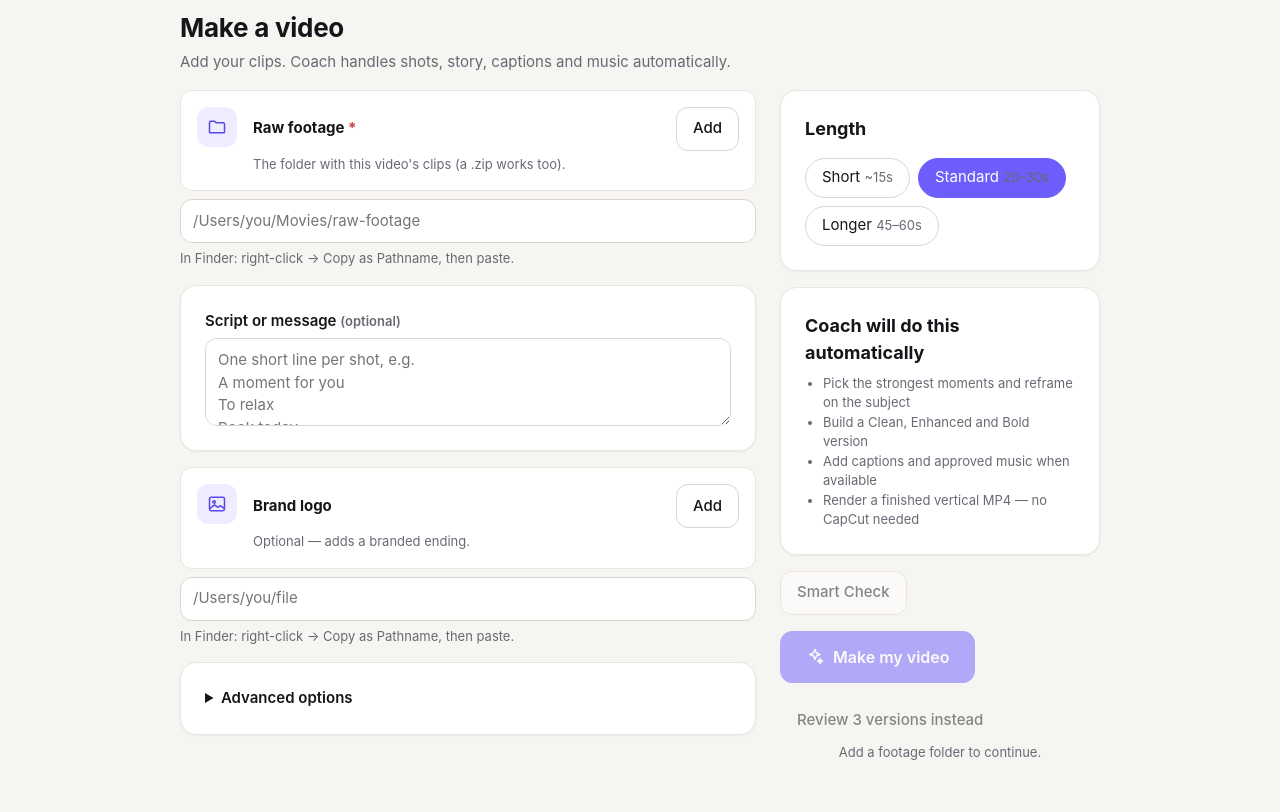
Test case: CreateFlow › keeps the primary action disabled until footage is provided
Expected: the button "Make my video" is disabled, [780,631,974,683]
Type "/Users/me/Movies/raw" into the field named "Raw footage path" at (468, 221), box [180,199,756,243]
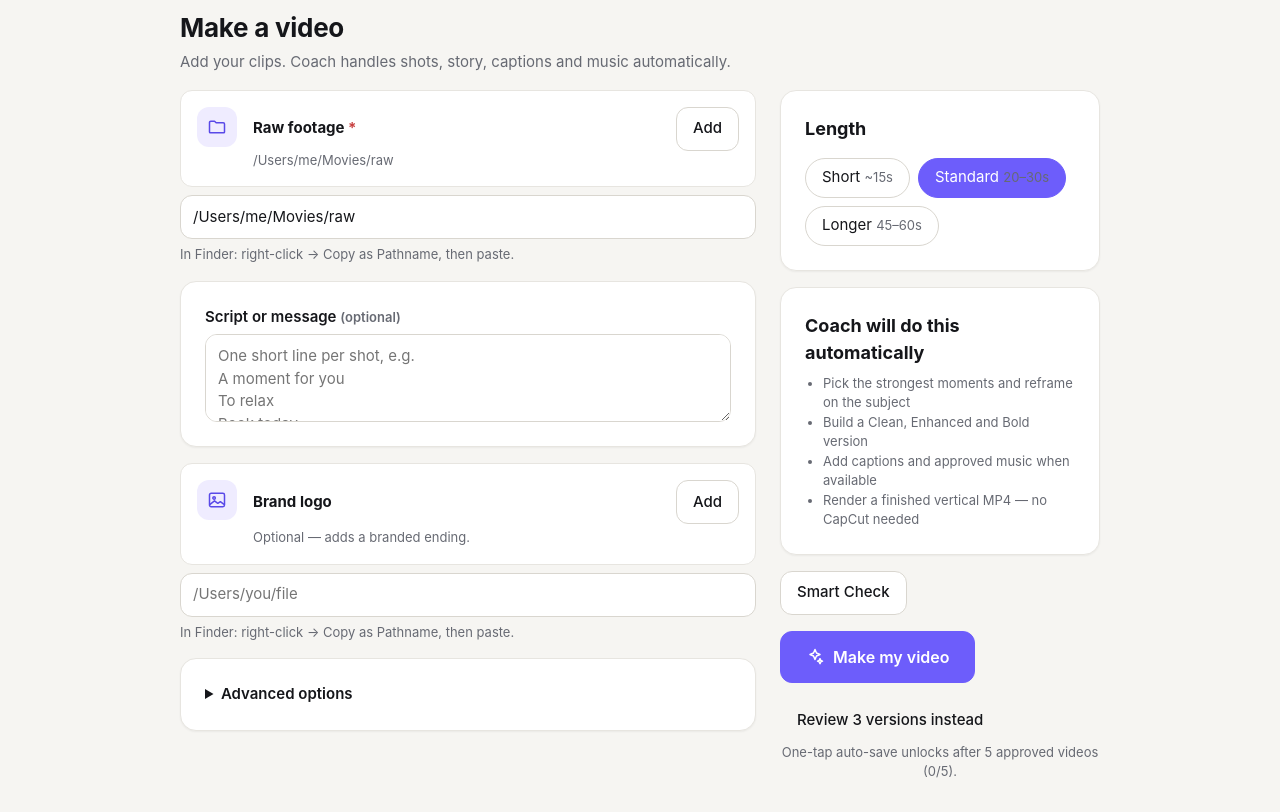
Now the button "Make my video" is enabled, box [780,631,974,683]
